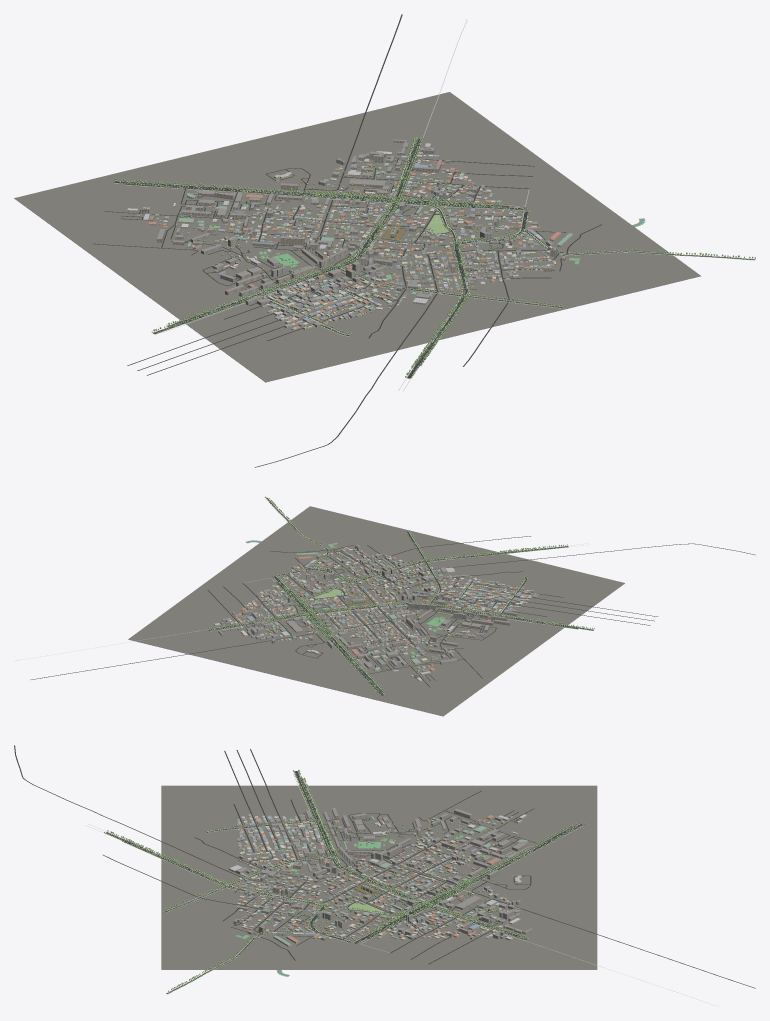
Rendered from tsh-city-current.glb.
3 renders of one model, top to bottom at view 1: azimuth 30°, elevation 25°; view 2: azimuth 150°, elevation 25°; view 3: azimuth 270°, elevation 25°, orthographic. The views are drawn at different scales.
Bounding box in the file's own units: 2838 × 51.1 × 3403.
Materials: 51 (13 with a texture image).
